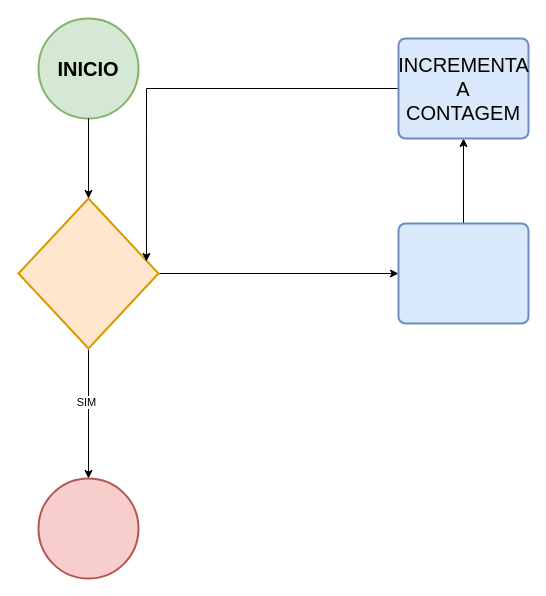
Some shapes in this 546 by 596 pixel diagram are drawn without their labels. The box of each missing label's shape, as (x1, y1, x2, y2) in pixels:
EXECUTA: (397, 222, 529, 324)
ULTIMA?: (17, 197, 159, 349)
